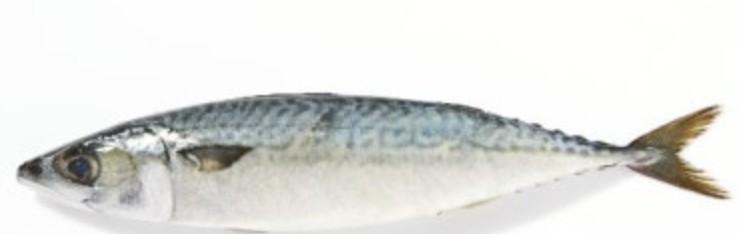fish: (18, 93, 727, 229)
